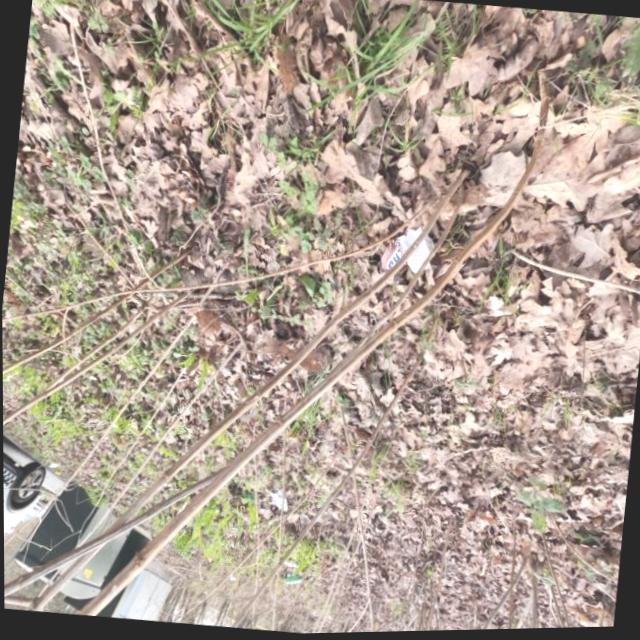Plastic: (377, 221, 437, 278)
